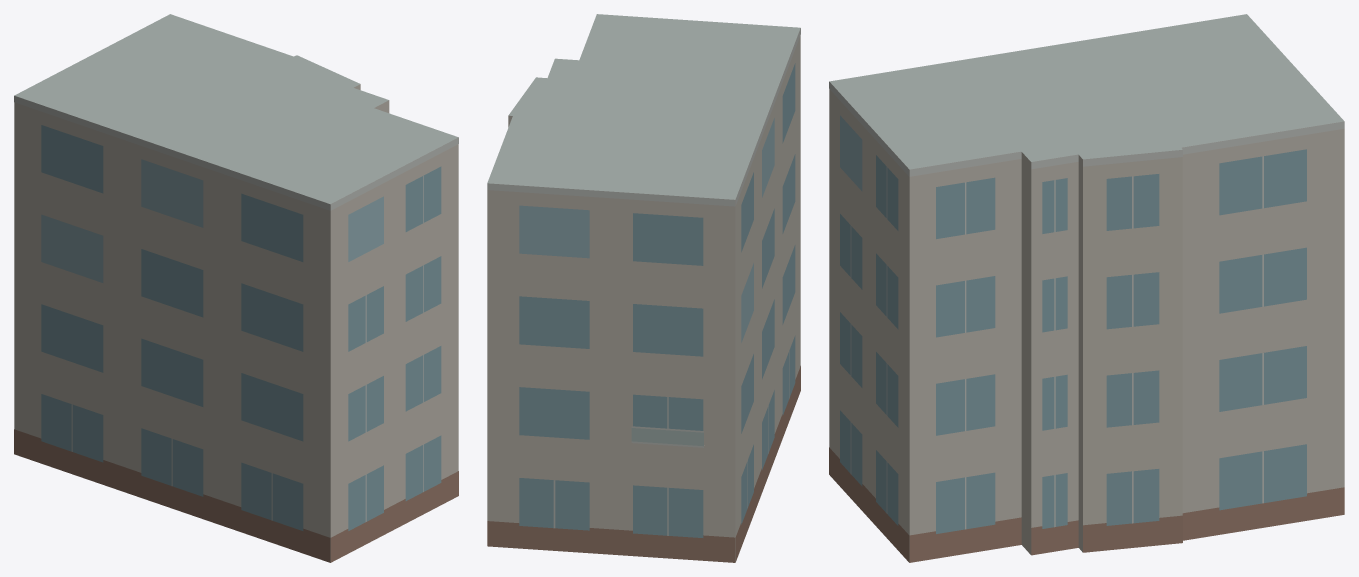
Rendered from survey-upis-32968880.glb.
3 renders of one model, left to right at view 1: azimuth 30°, elevation 25°; view 2: azimuth 150°, elevation 25°; view 3: azimuth 270°, elevation 25°, orthographic. The views are drawn at different scales.
Parts seen in each view (by area): view 1: survey-upis-32968880.tmp; view 2: survey-upis-32968880.tmp; view 3: survey-upis-32968880.tmp.
Part boxes in pixels (x1,y1,x2,y2): survey-upis-32968880.tmp: (14, 14, 458, 562); survey-upis-32968880.tmp: (487, 14, 800, 562); survey-upis-32968880.tmp: (829, 14, 1344, 562).
Size of the model in its own units: 11.21 by 13.2 by 15.69.
